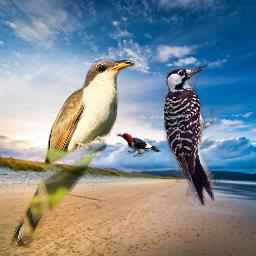Cuckoo: (8, 55, 138, 252)
Woodpecker: (164, 66, 214, 206), (115, 132, 162, 158)
